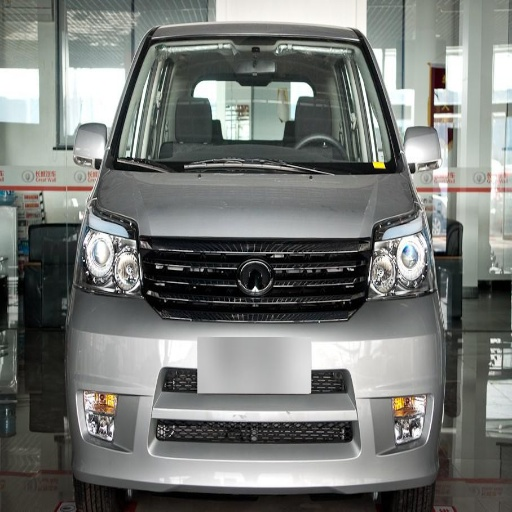front_bumper: (74, 238, 436, 493)
front_right_light: (78, 223, 141, 295)
hood: (93, 168, 420, 299)
left_mirror: (405, 127, 440, 172)
